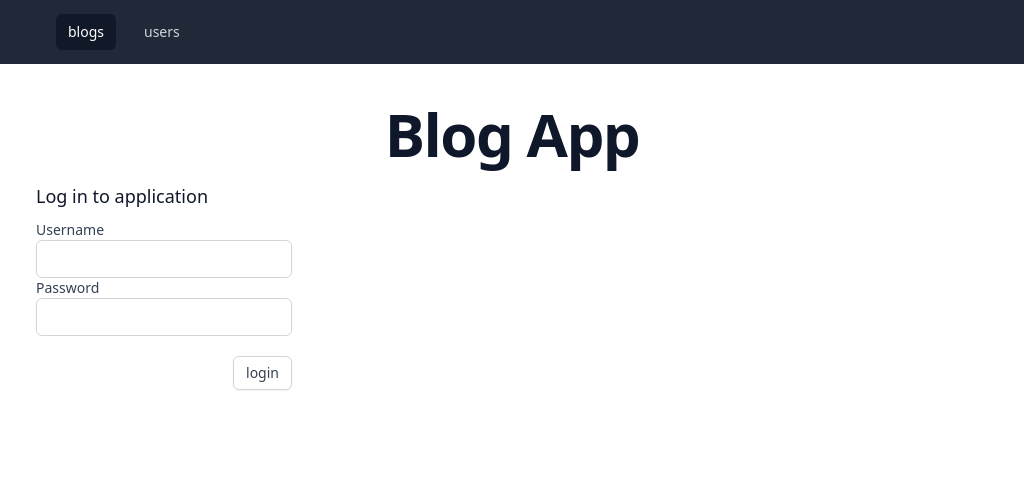
Test case: Blog app › Login › fails with wrong credentials
This screenshot has width=1024, height=491.
Type "wrong" into the field with test id "username-input".
click(164, 259); type("wrong")  # box top-left (36, 240), bottom-right (292, 278)
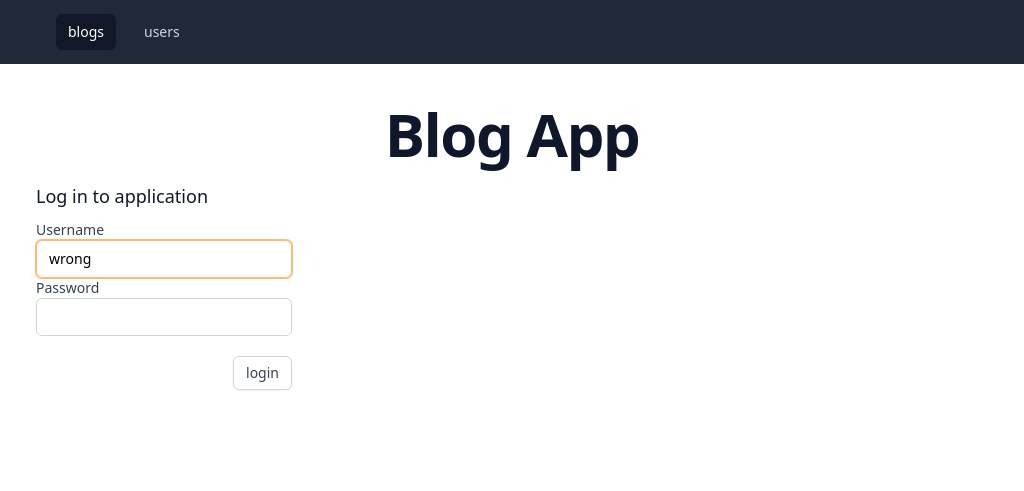
Type "wrong" into the password field with test id "password-input".
click(164, 317); type("wrong")  # box top-left (36, 298), bottom-right (292, 336)
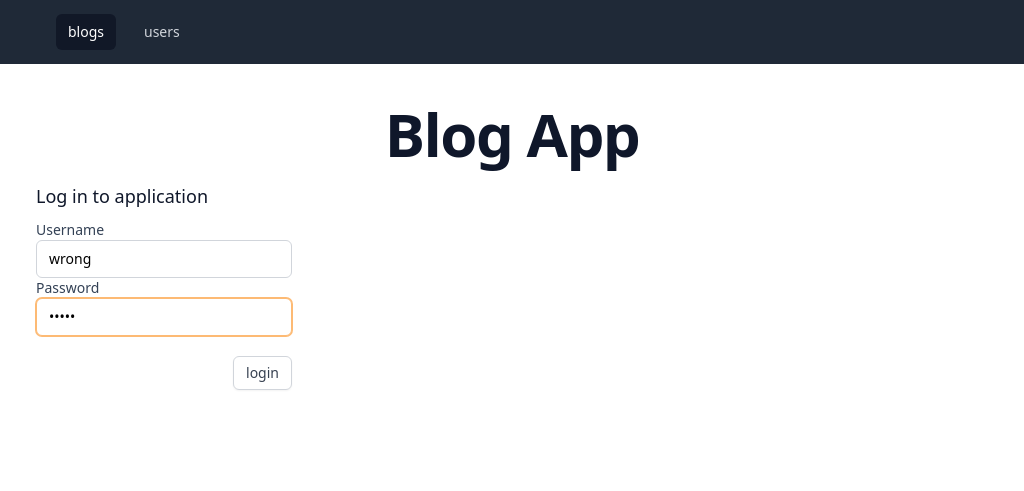
Click the button with test id "login-submit".
click(263, 373)  # box top-left (233, 356), bottom-right (292, 390)
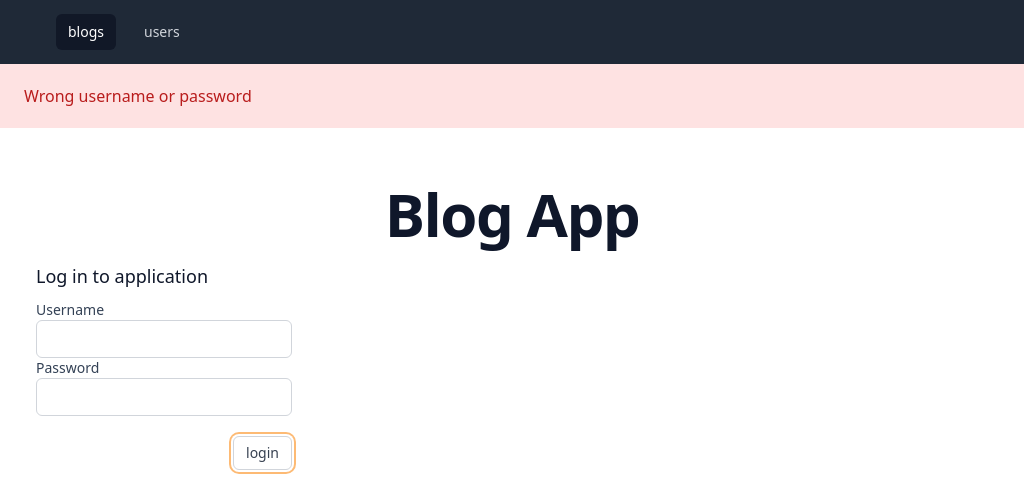
Expected: the form with test id "login-form" is shown, top-left (36, 300), bottom-right (292, 470)
Result: the text "Wrong username or password" is shown at top-left (0, 64), bottom-right (1023, 128)
